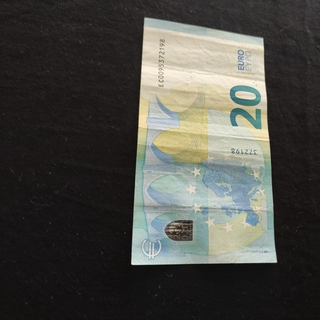20EUROBack: (131, 17, 278, 265)
